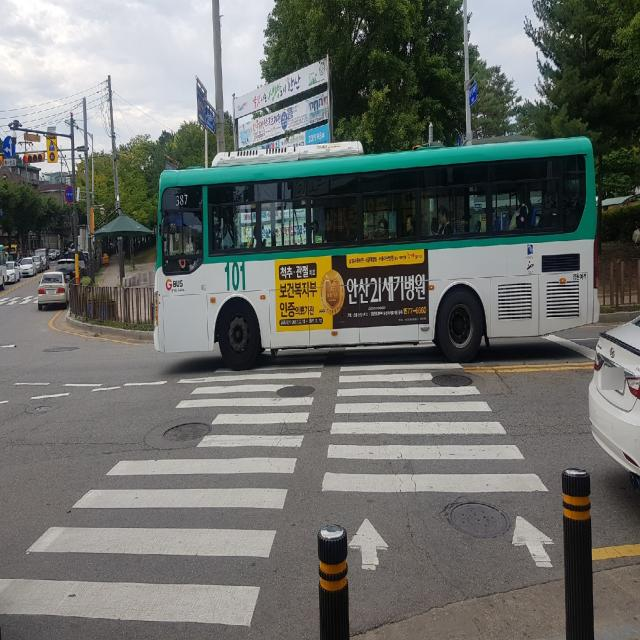횡단보도: (1, 342, 554, 639)
